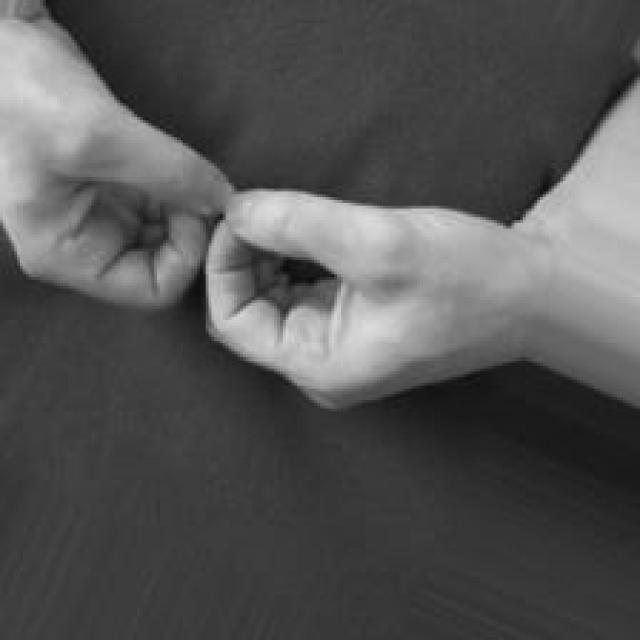B: (0, 0, 535, 414)
